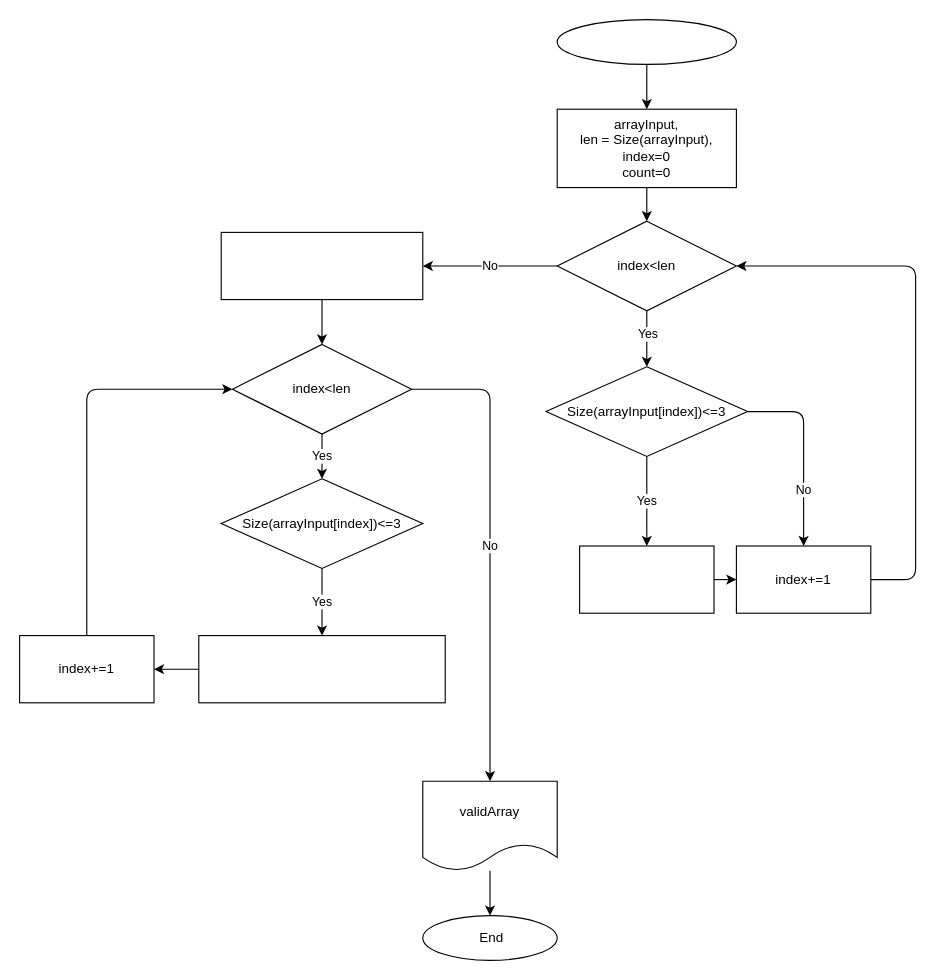
This 944x980 diagram has some shape labels left out. Here are the shapes that lost their labels. From the top down, the centre of each, then its label:
At point (646, 41): "Start".
At point (321, 265): "validArray = new array[count] index = 0 validIndex=0".
At point (646, 579): "count+=1".
At point (321, 668): "validArray[validIndex]=arrayInput[index] validIndex+=1".
